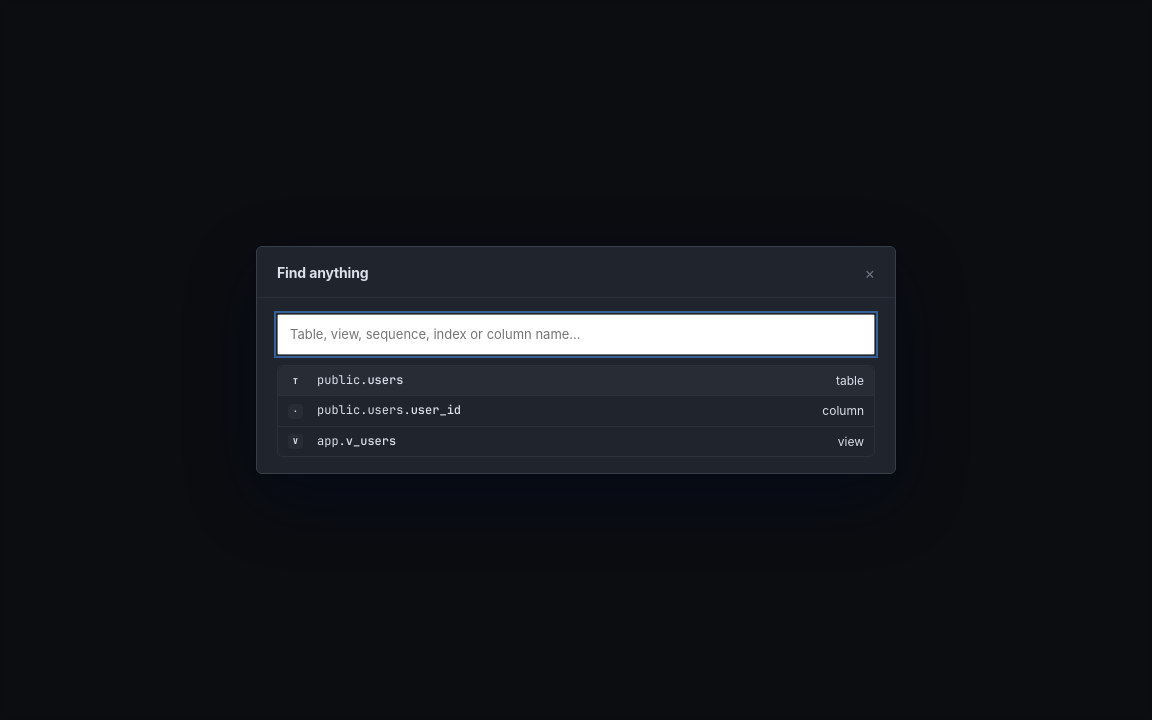
SearchModal › explains that partitions are hidden once you search
This screenshot has width=1152, height=720.
Type "u" into the field.
click(576, 334); type("u")  # box [277, 314, 875, 355]
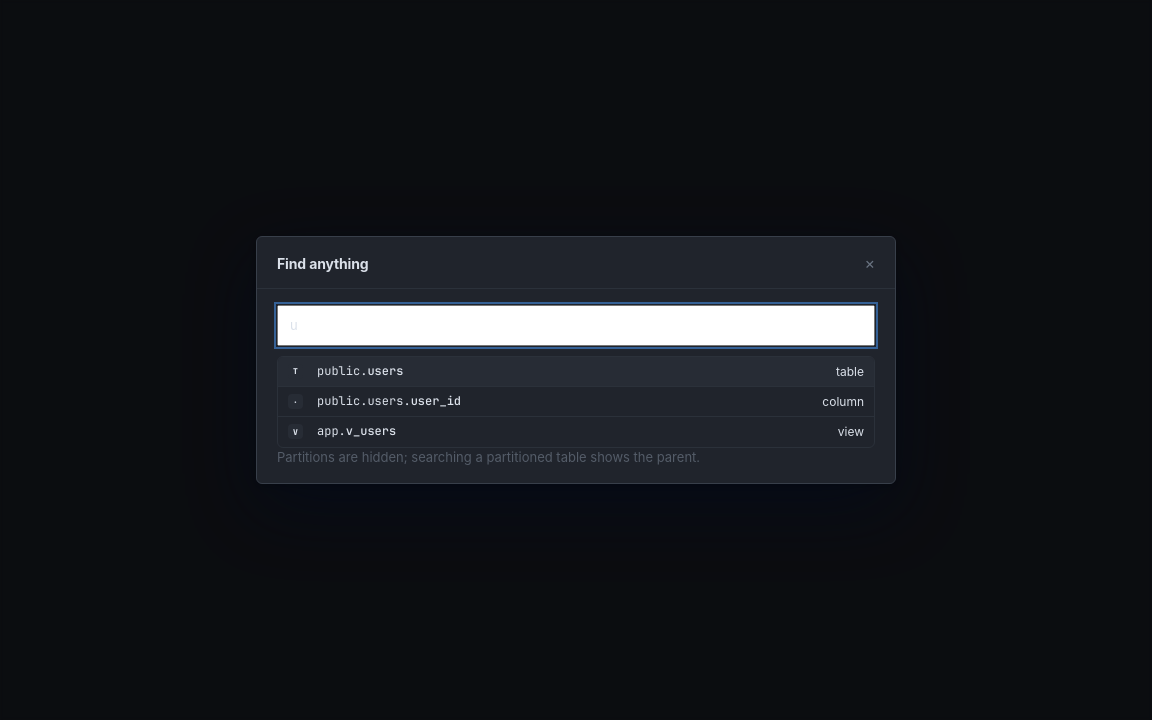
Now the text "Partitions are hidden" is shown, box [277, 449, 700, 465]
